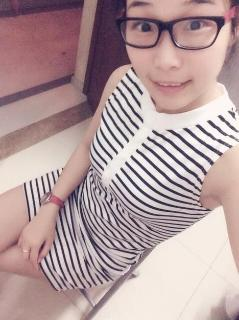vest: (22, 63, 239, 293)
